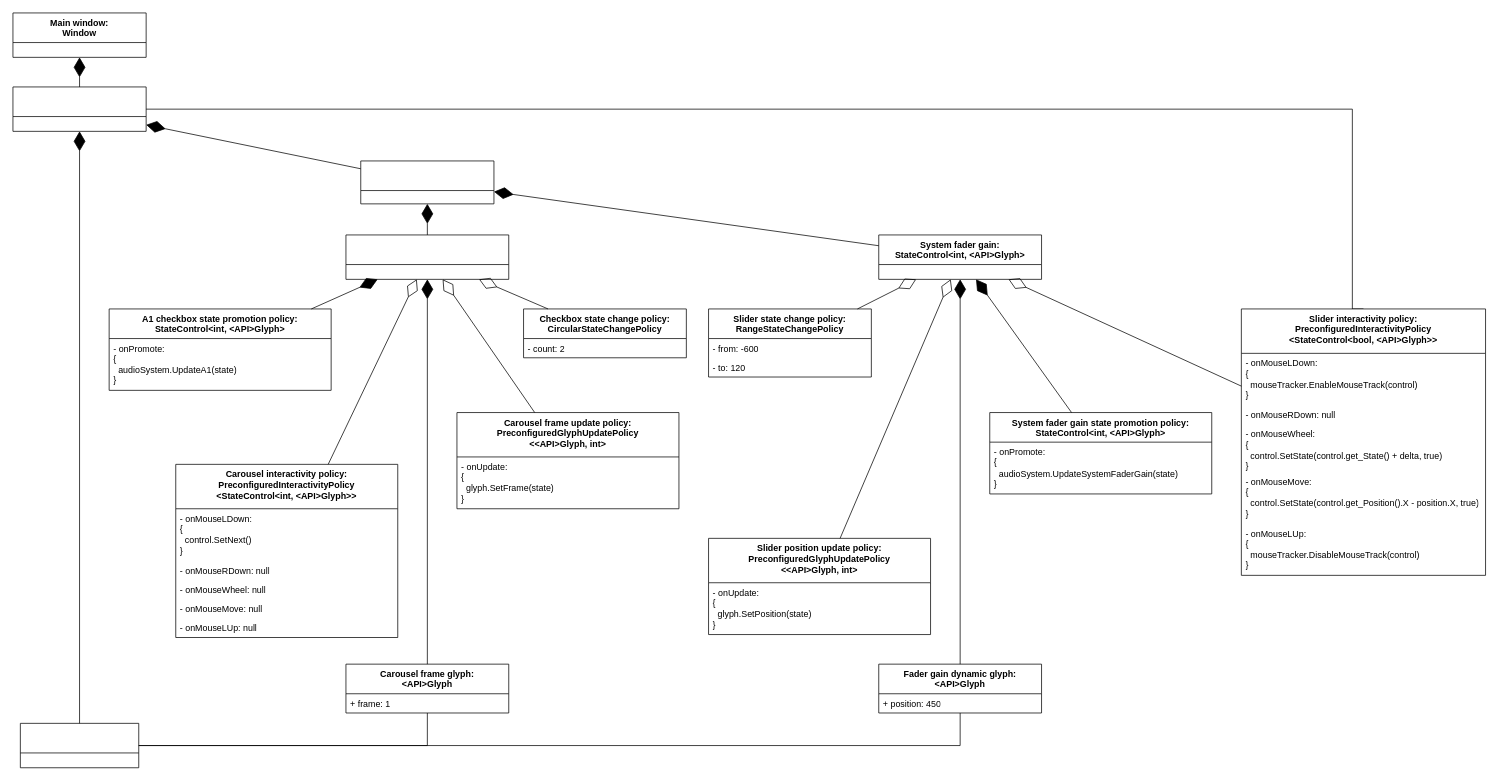
Some shapes in this 1499 by 781 pixel diagram are drawn without their labels. Here are the shapes that lost their labels. From the top down, the centre of each, then its label:
At pixel 79 108: "Main scene: Scene".
At pixel 427 182: "Top level panel: StackPanel<Right>".
At pixel 427 256: "A1 checkbox: StateControl<int, <API>Glyph>".
At pixel 79 745: "Canvas: <API>Canvas".
